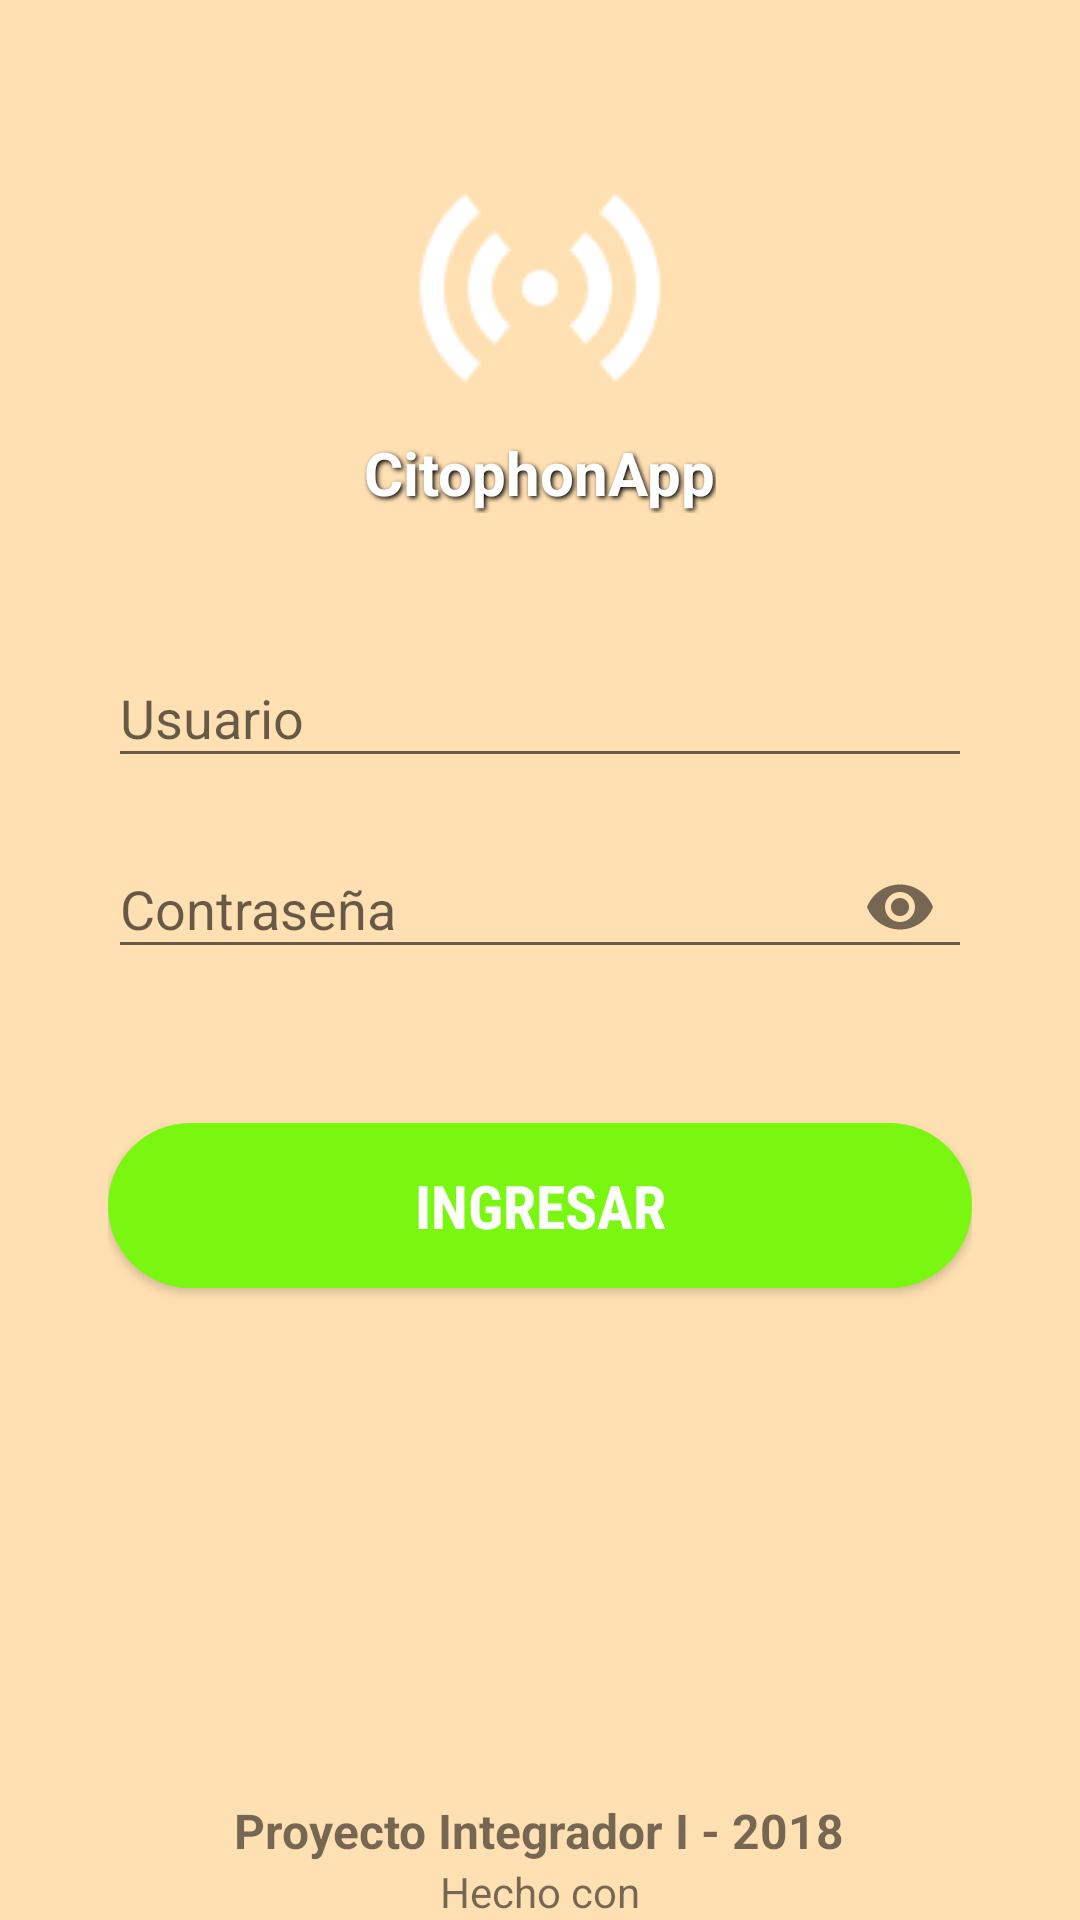

Where icons sit on this 1080x1920 app screen, as (x1, y1, x2, y2):
online: (419, 195, 661, 381)
